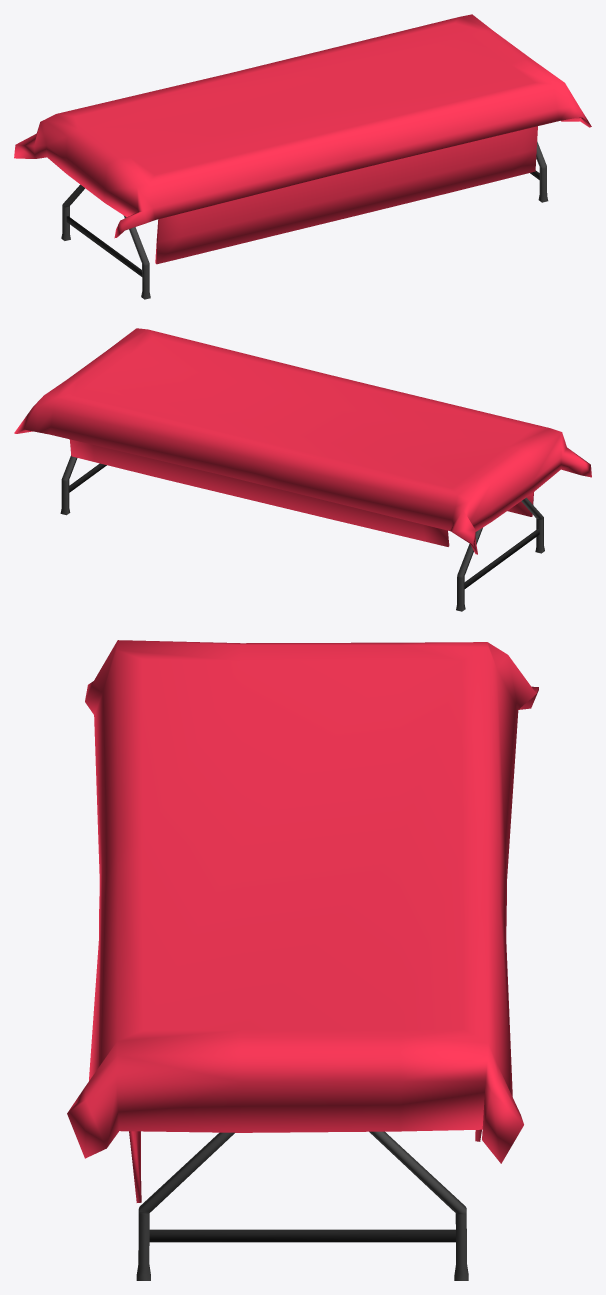
Rendered from MejaJualan3.fbx.
3 views of the same model, one above another, from view 1: azimuth 30°, elevation 25°; view 2: azimuth 150°, elevation 25°; view 3: azimuth 270°, elevation 25° (orthographic). The views are drawn at different scales.
Parts seen in each view (by area): view 1: TaplakJualan1_LOD0, TaplakJualan2_LOD0, MejaJualan4_LOD0; view 2: TaplakJualan1_LOD0, TaplakJualan2_LOD0, MejaJualan4_LOD0; view 3: TaplakJualan1_LOD0, MejaJualan4_LOD0.
Boxes of the visible parts, x1=… form: TaplakJualan1_LOD0: x1=14, y1=14, x2=591, y2=238; TaplakJualan2_LOD0: x1=155, y1=126, x2=537, y2=264; MejaJualan4_LOD0: x1=61, y1=141, x2=548, y2=299; TaplakJualan1_LOD0: x1=14, y1=328, x2=591, y2=554; TaplakJualan2_LOD0: x1=69, y1=439, x2=533, y2=546; MejaJualan4_LOD0: x1=60, y1=455, x2=544, y2=611; TaplakJualan1_LOD0: x1=67, y1=640, x2=538, y2=1163; MejaJualan4_LOD0: x1=136, y1=1131, x2=468, y2=1280.
Size of what is drawn, in the model's own units: 383 by 93.08 by 164.
